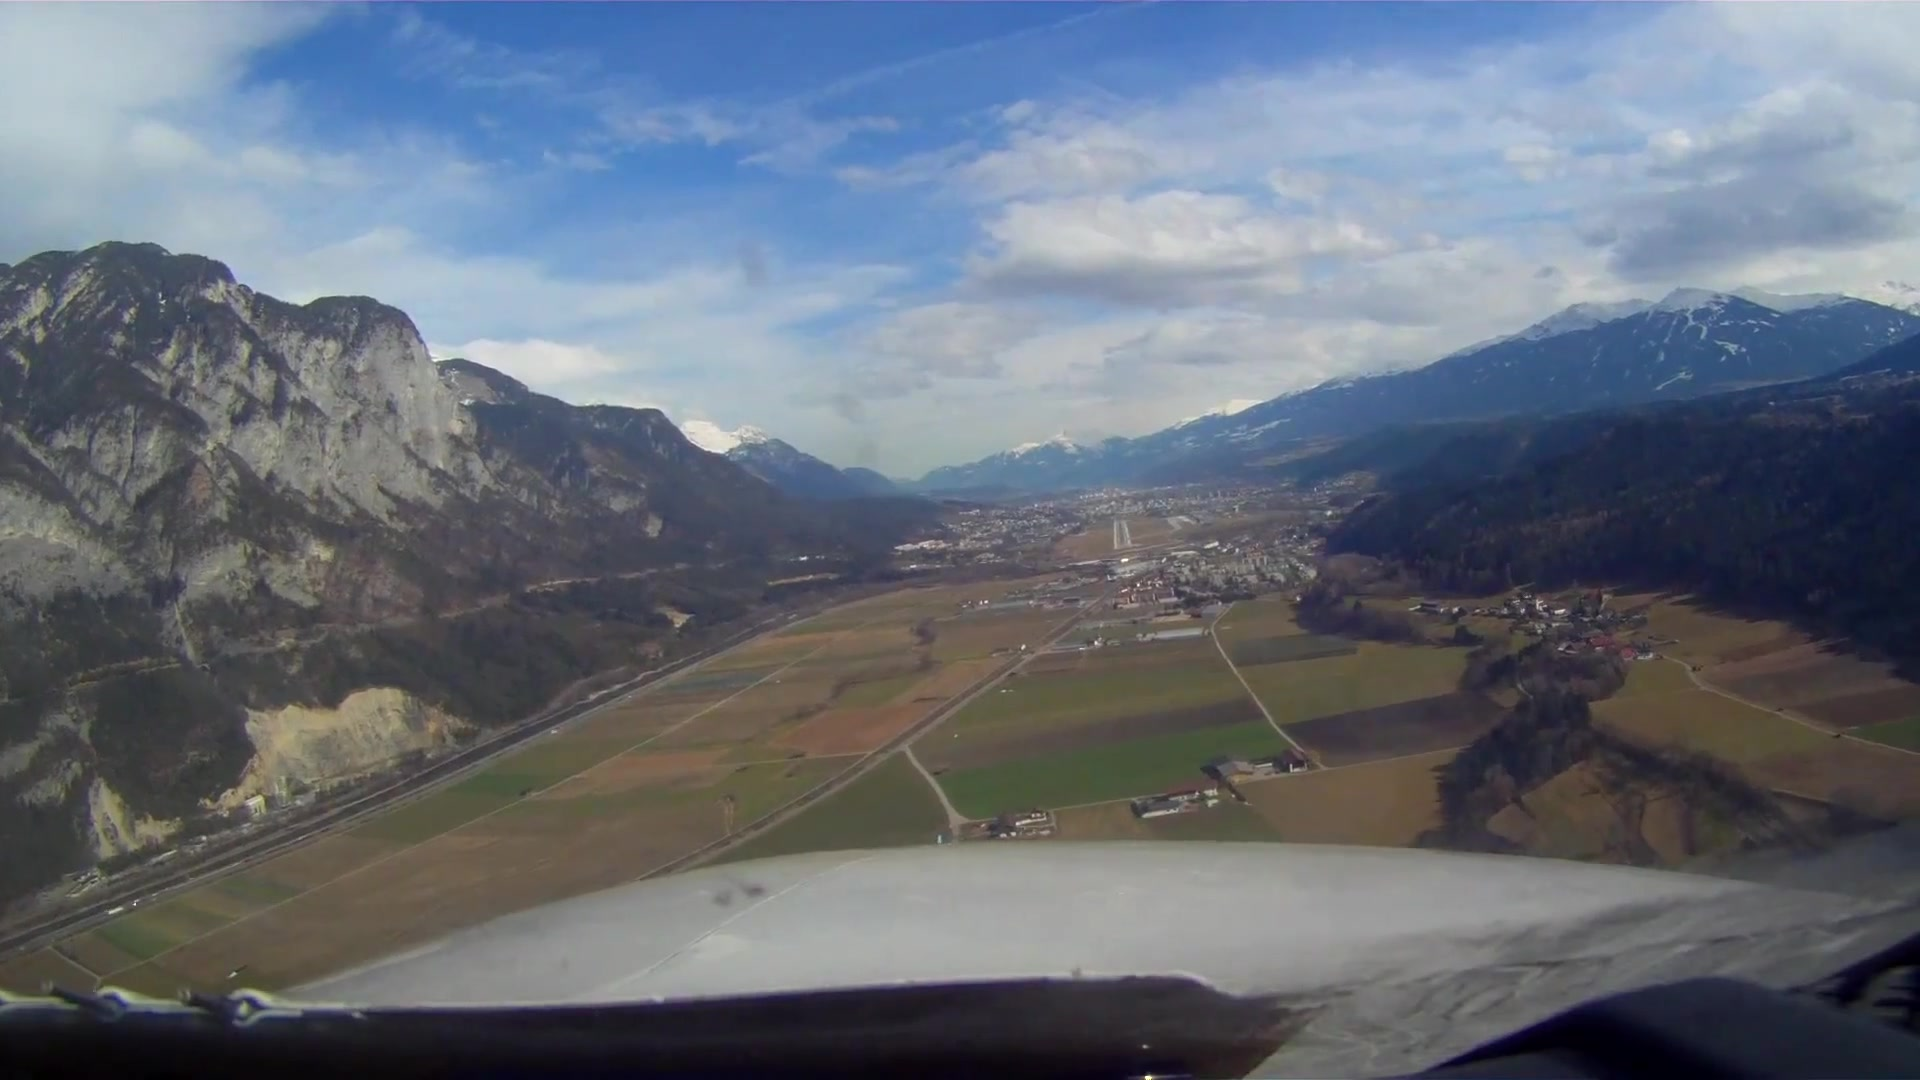runway: (1112, 520, 1131, 553)
